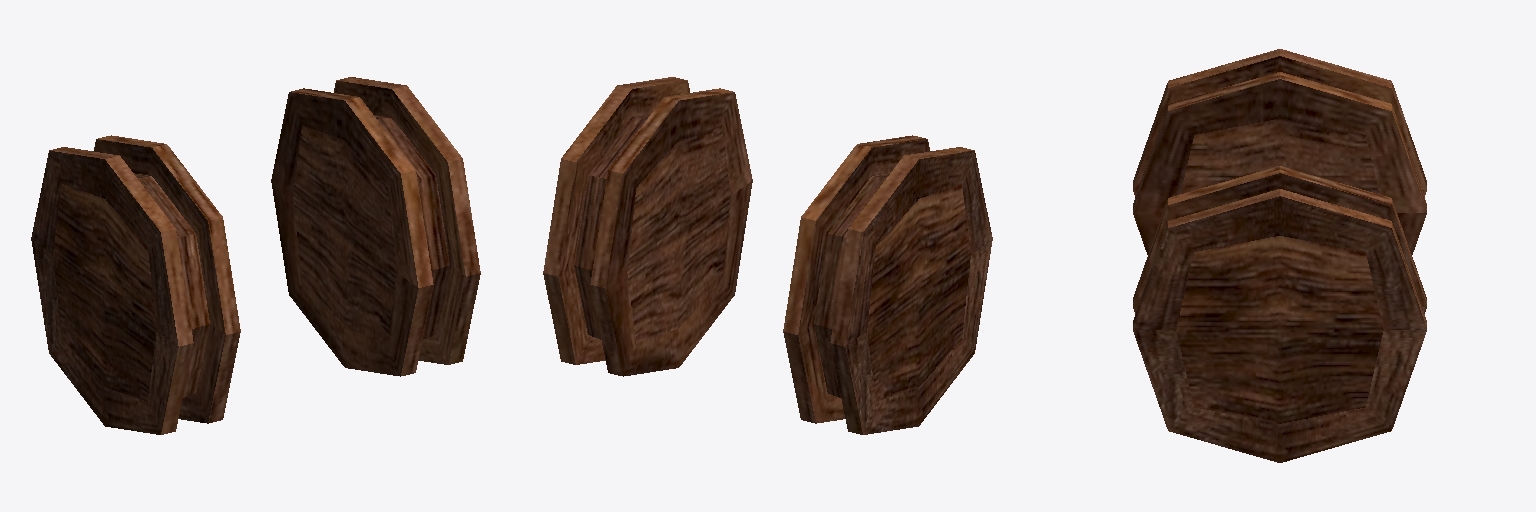
3 views of the same model, side by side, from view 1: azimuth 30°, elevation 25°; view 2: azimuth 150°, elevation 25°; view 3: azimuth 270°, elevation 25° (orthographic).
Parts seen in each view (by area): view 1: pCube77, pCube75; view 2: pCube77, pCube75; view 3: pCube77, pCube75.
Part boxes in pixels (left/top/right/bottom): pCube77: left=271, top=77, right=480, bottom=376; pCube75: left=31, top=135, right=240, bottom=434; pCube77: left=543, top=77, right=752, bottom=376; pCube75: left=783, top=135, right=992, bottom=434; pCube77: left=1133, top=166, right=1426, bottom=462; pCube75: left=1133, top=49, right=1426, bottom=254.
Size of the model in its own units: 2.68 by 2.27 by 2.27.
Materials: 1 (1 with a texture image).